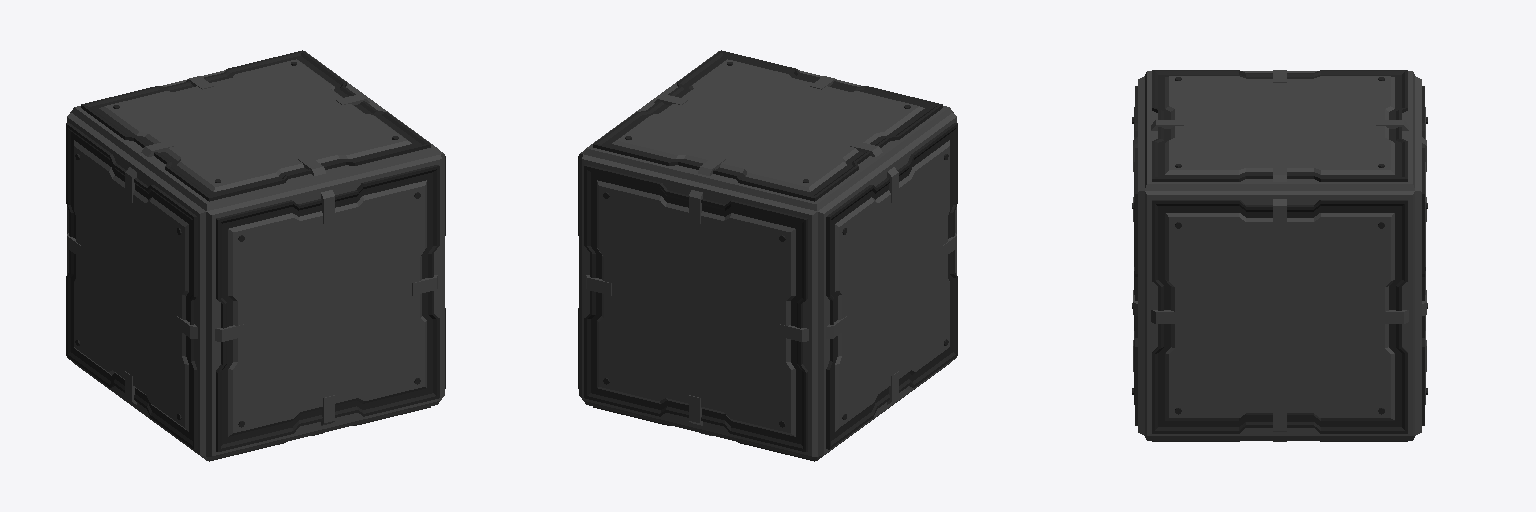
3 views of the same model, side by side, from view 1: azimuth 30°, elevation 25°; view 2: azimuth 150°, elevation 25°; view 3: azimuth 270°, elevation 25° (orthographic).
Visible parts, largest first — view 1: FloorTile_Box_FloorTile_Basic_Plane.014; view 2: FloorTile_Box_FloorTile_Basic_Plane.014; view 3: FloorTile_Box_FloorTile_Basic_Plane.014.
Boxes of the visible parts, <box> form: FloorTile_Box_FloorTile_Basic_Plane.014: <box>66,50,445,461</box>; FloorTile_Box_FloorTile_Basic_Plane.014: <box>578,50,957,461</box>; FloorTile_Box_FloorTile_Basic_Plane.014: <box>1132,70,1427,441</box>.
Bounding box in the file's own units: 2.19 × 2.19 × 2.19.